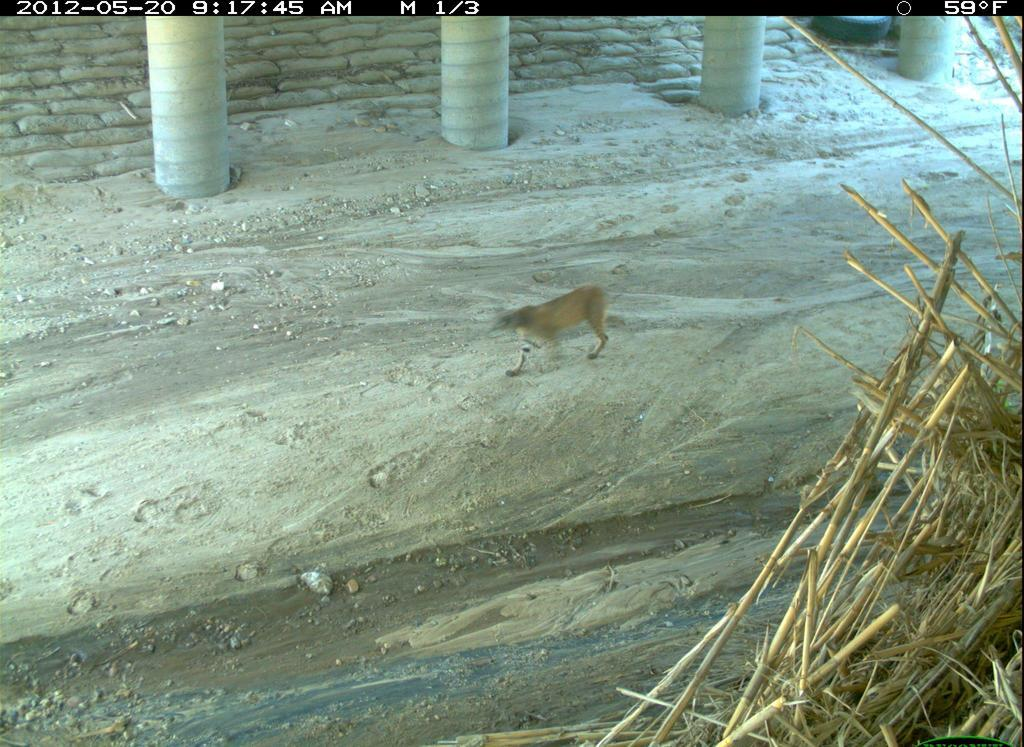bobcat: (454, 281, 633, 388)
